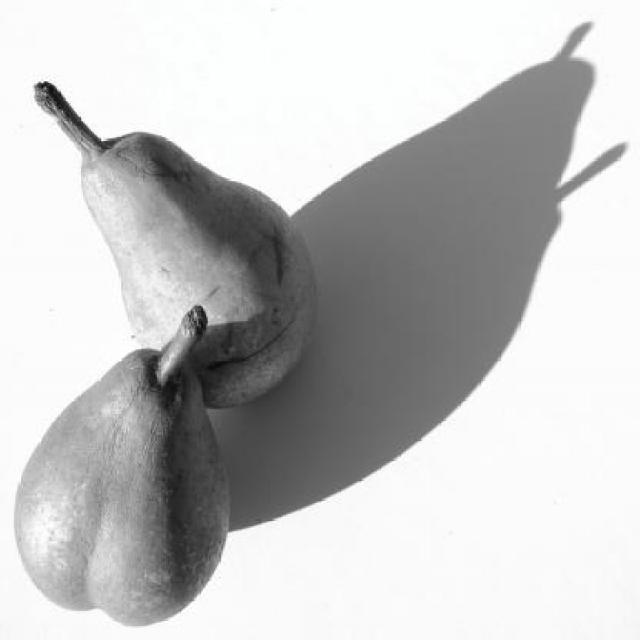Pear: (79, 139, 318, 415), (12, 348, 232, 627)
